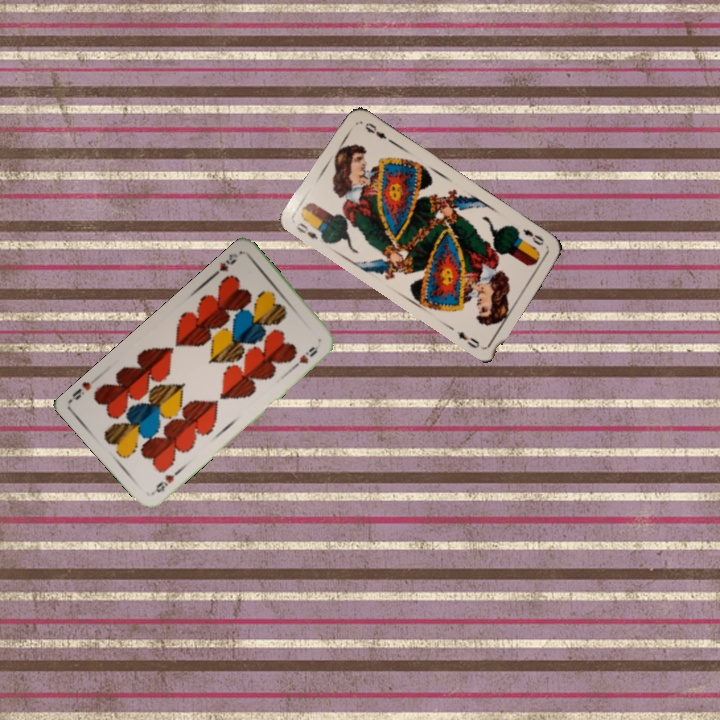EO: (293, 219, 321, 242), (519, 225, 546, 248)
H9: (208, 249, 240, 279), (148, 470, 177, 496)
